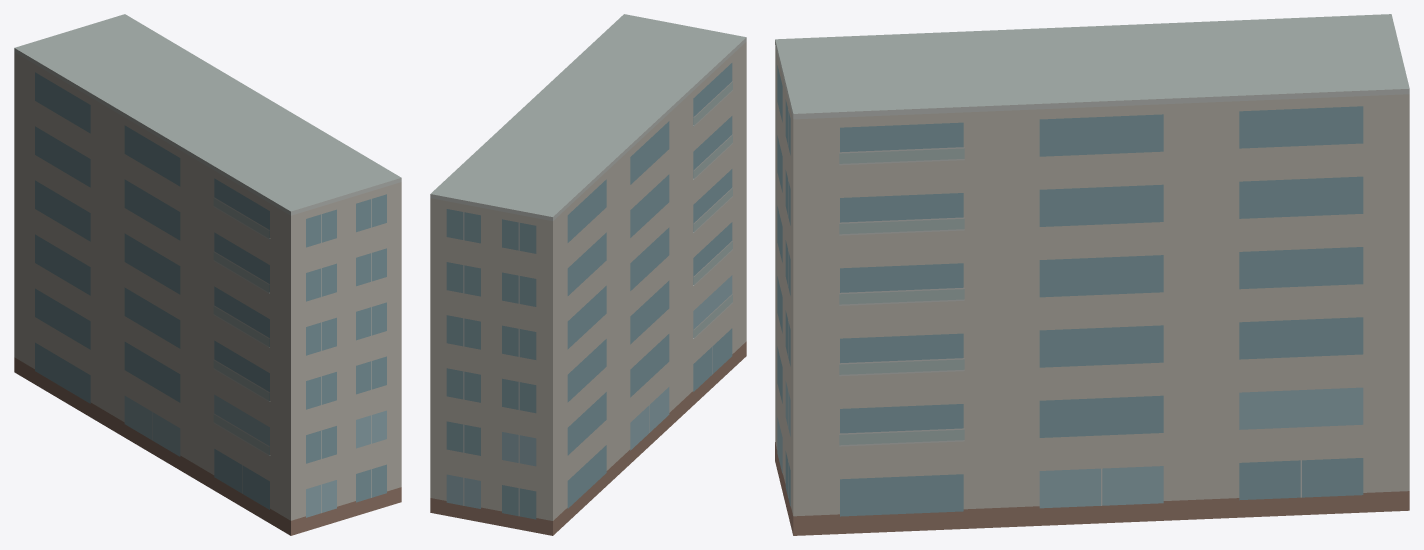
File: survey-upis-32966249.glb
3 renders of one model, left to right at view 1: azimuth 30°, elevation 25°; view 2: azimuth 150°, elevation 25°; view 3: azimuth 270°, elevation 25°, orthographic. The views are drawn at different scales.
Parts seen in each view (by area): view 1: survey-upis-32966249.tmp; view 2: survey-upis-32966249.tmp; view 3: survey-upis-32966249.tmp.
Part boxes in pixels (x1,y1,x2,y2): survey-upis-32966249.tmp: (14,14,401,535); survey-upis-32966249.tmp: (430,14,746,535); survey-upis-32966249.tmp: (775,14,1409,535).
Bounding box in the file's own units: 9.62 × 18.9 × 25.78.
